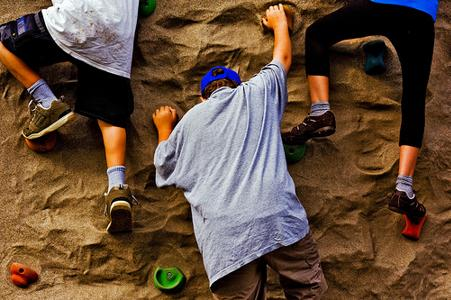person: (152, 4, 331, 300)
